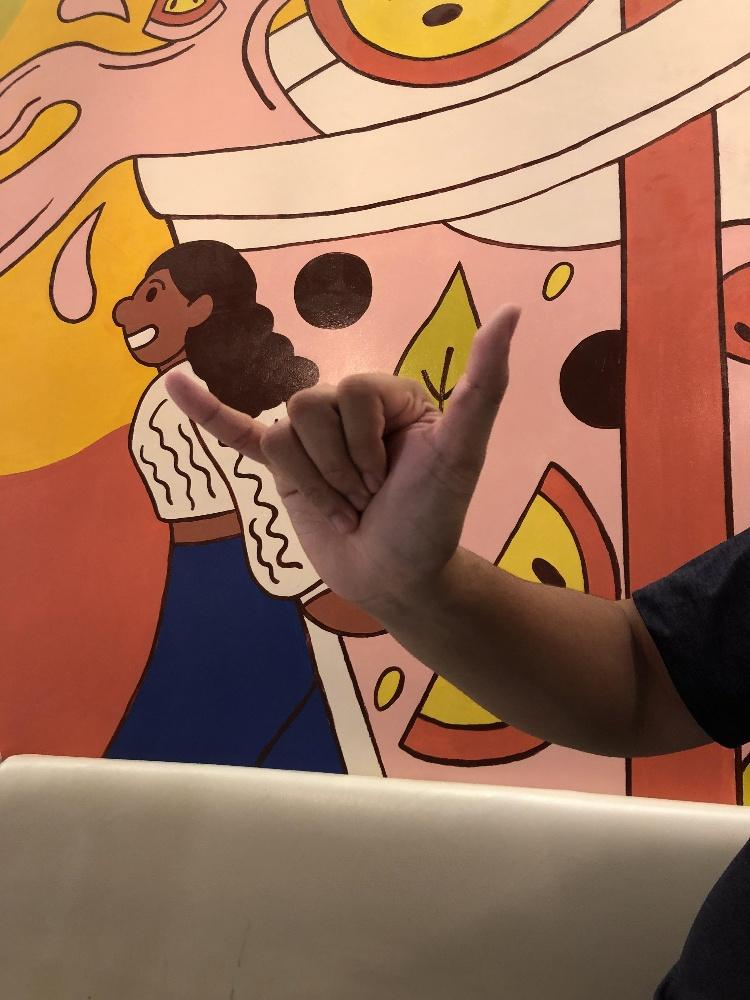y: (162, 299, 522, 600)
